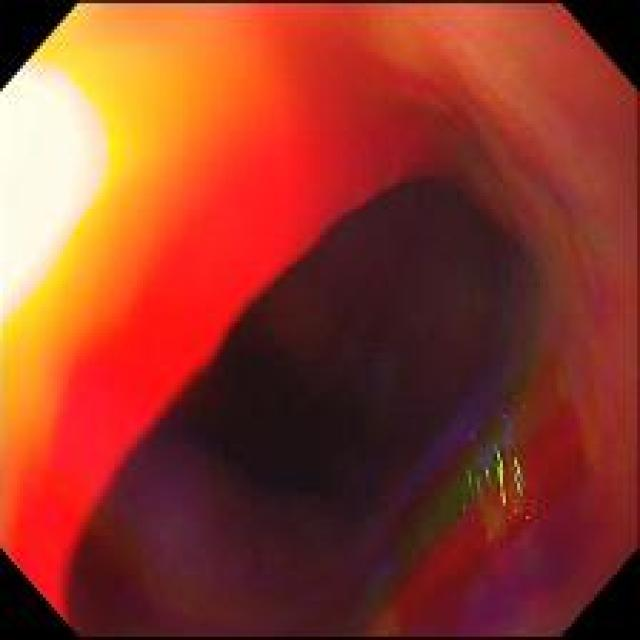color misalignment: (2, 5, 402, 618), (347, 259, 588, 637)
contrast: (147, 318, 382, 522), (314, 187, 522, 407)
saturation: (2, 57, 108, 328)
